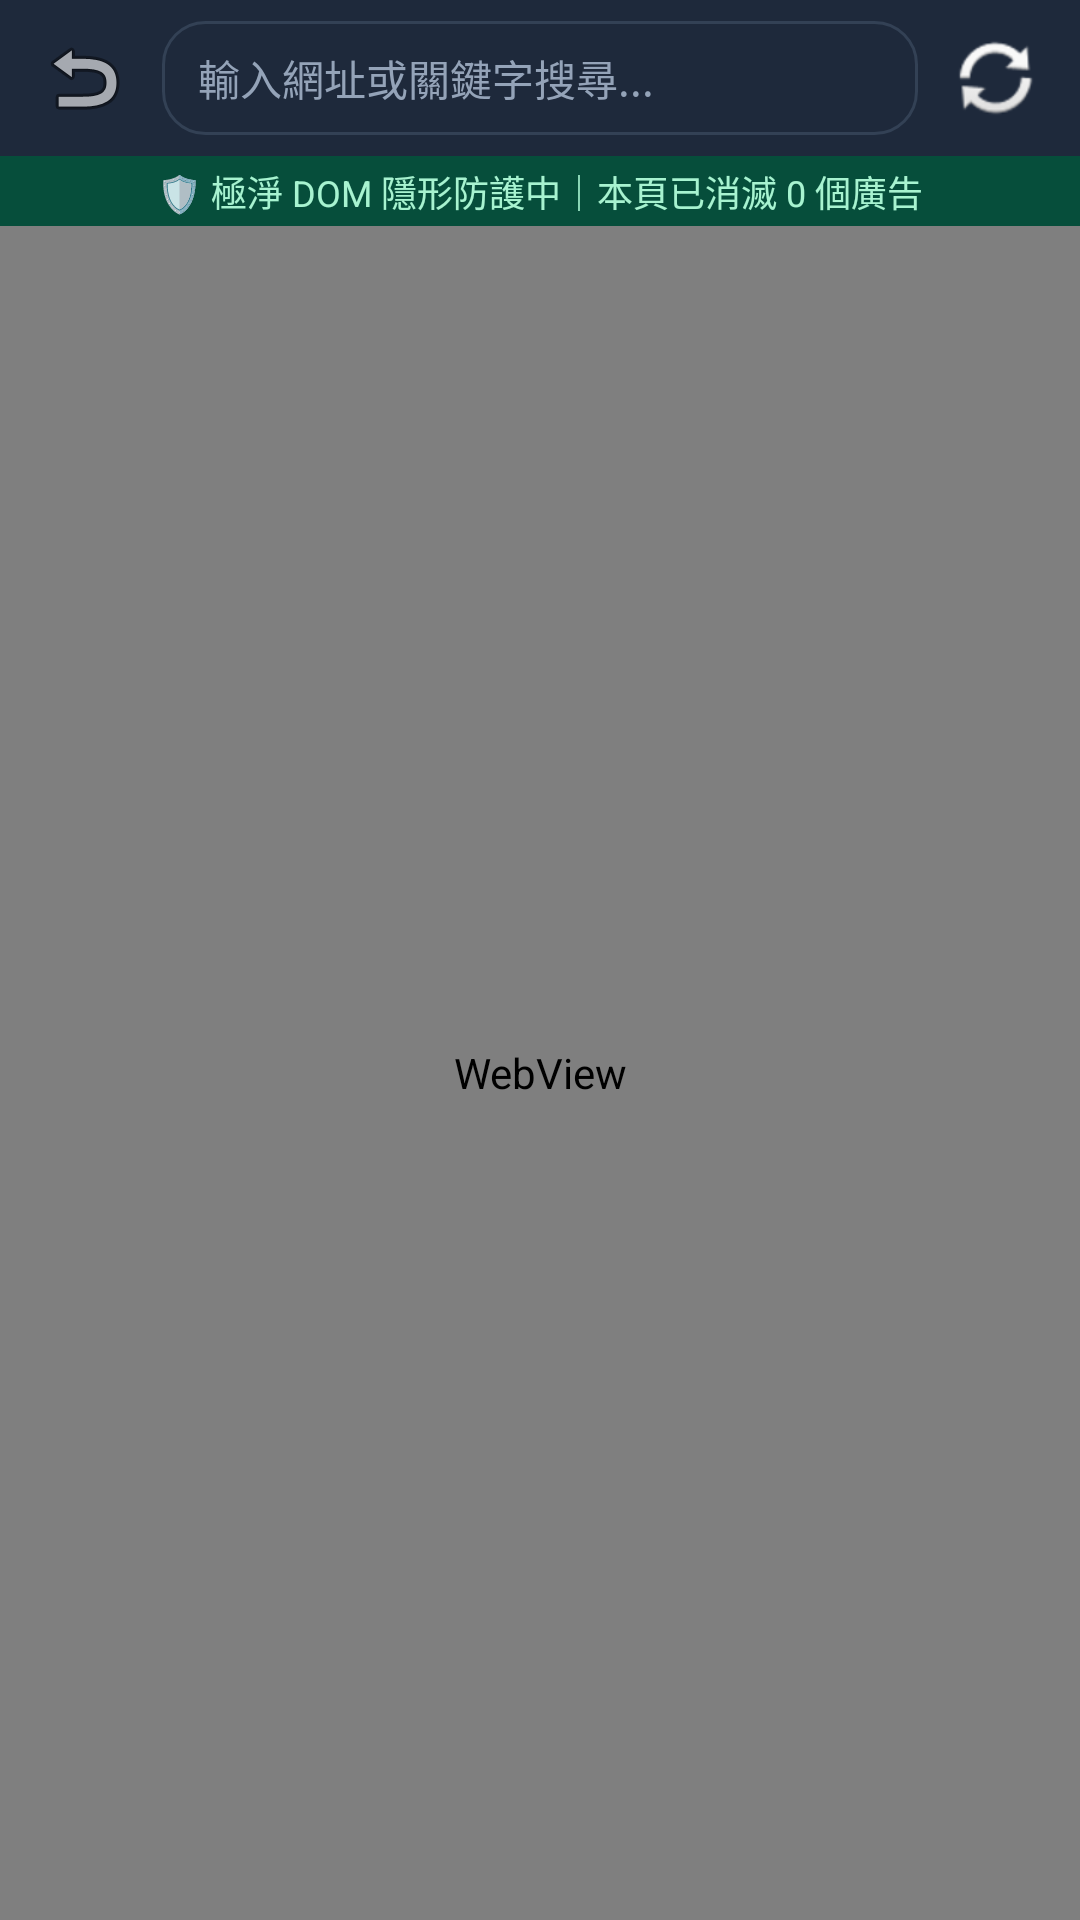

Icons on this 1080w x 1920h Android screen, each with its box as Rect(x1, y1, x2, y2):
返回主畫面: Rect(52, 49, 118, 108)
重新整理: Rect(959, 42, 1032, 114)
